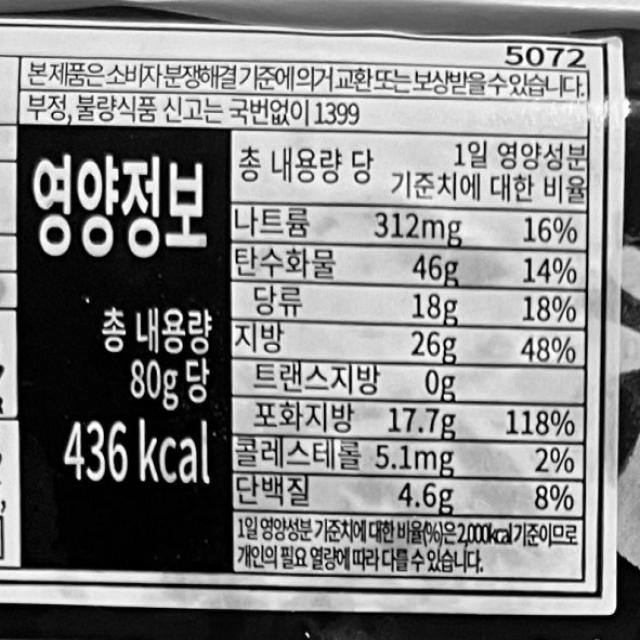Nutrition Label: (5, 110, 612, 614)
